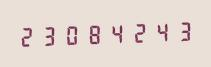eight: (83, 20, 104, 47)
four: (105, 20, 126, 46), (149, 18, 170, 44)
three: (39, 22, 60, 48), (171, 17, 192, 43)
two: (17, 23, 38, 49), (127, 19, 148, 45)
zero: (61, 21, 82, 47)
